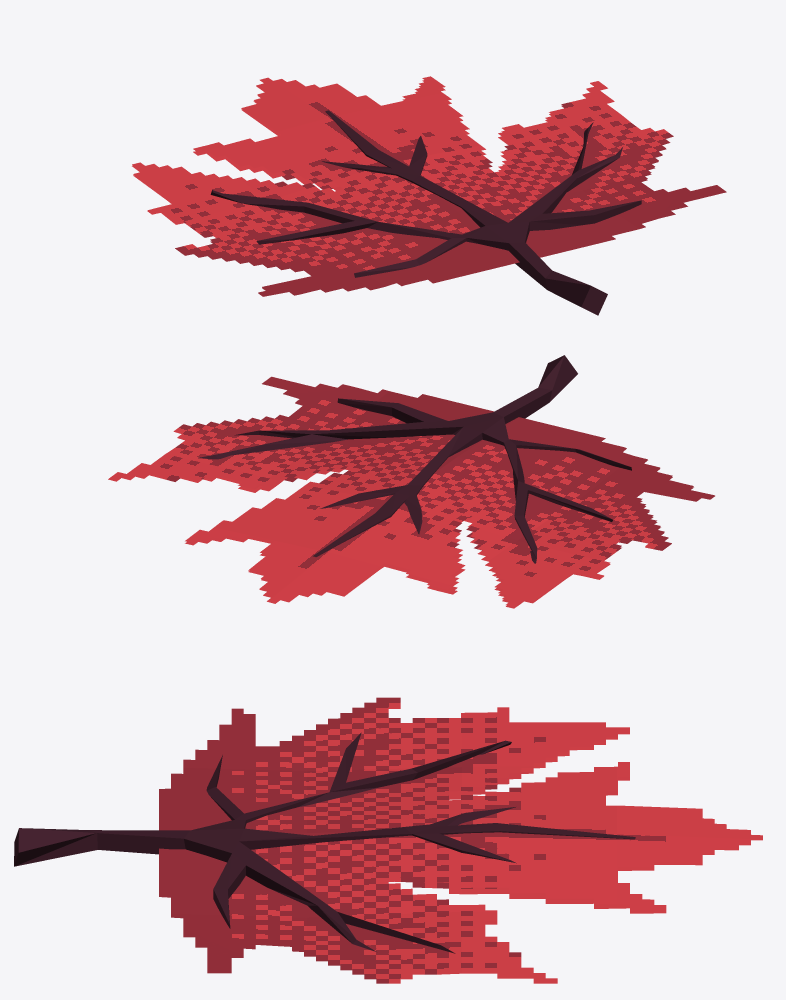
File: Leaf.fbx
The picture shows the model from 3 angles, top to bottom: view 1: azimuth 30°, elevation 25°; view 2: azimuth 150°, elevation 25°; view 3: azimuth 270°, elevation 25°; orthographic projection. The views are drawn at different scales.
Visible parts, largest first — view 1: Leaf.007, Stem.001; view 2: Leaf.007, Stem.001; view 3: Leaf.007, Stem.001.
Boxes of the visible parts, <box> form: Leaf.007: <box>132,76,726,296</box>; Stem.001: <box>210,110,641,315</box>; Leaf.007: <box>108,376,714,608</box>; Stem.001: <box>198,355,631,563</box>; Leaf.007: <box>159,697,762,983</box>; Stem.001: <box>14,732,635,953</box>.
Size of the model in its own units: 89.36 by 5.1 by 98.04.
